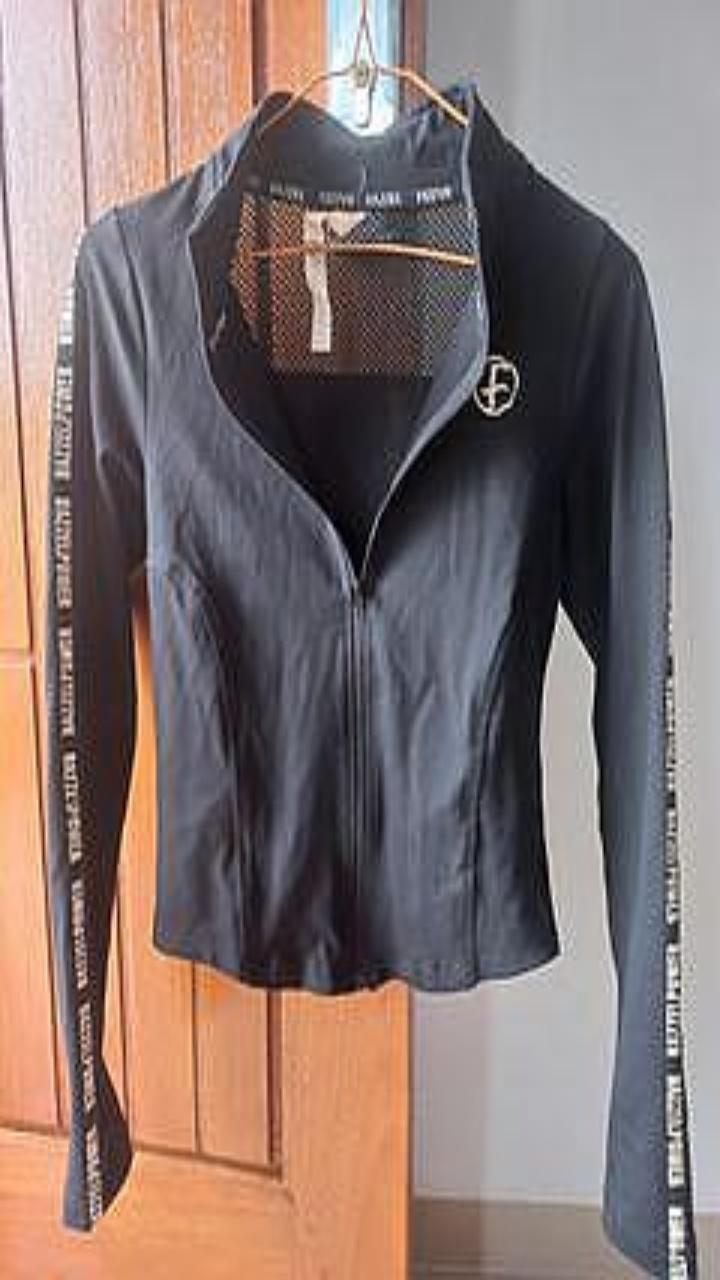Sports_Jacket: (45, 77, 696, 1279)
